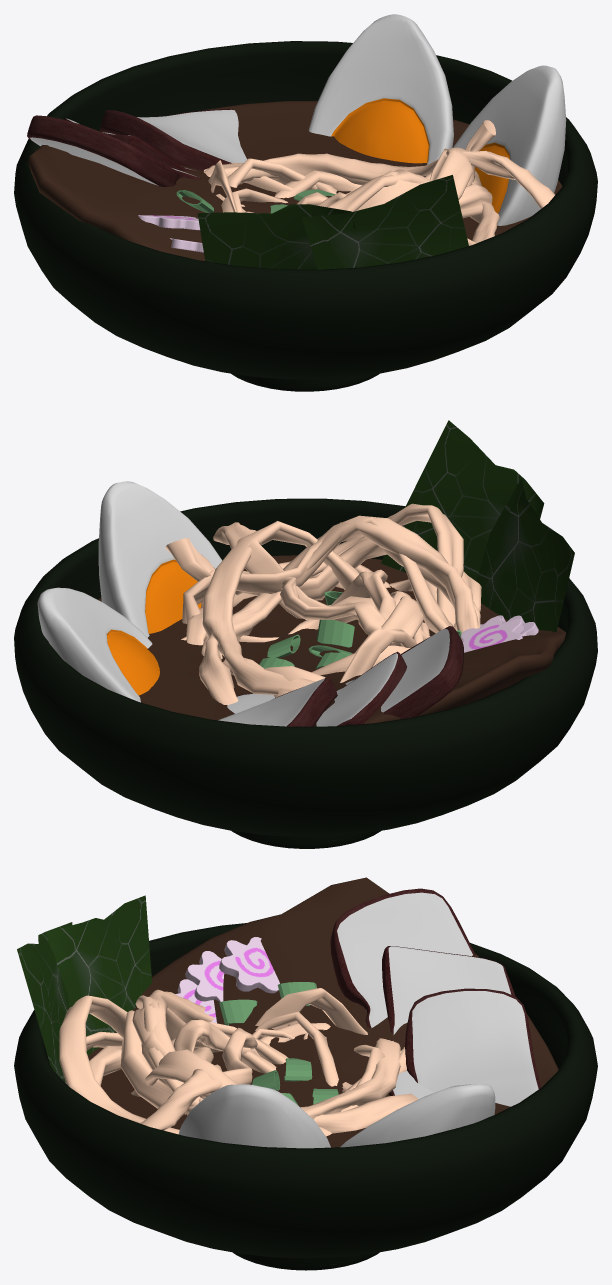
Rendered from Noodls.fbx.
The picture shows the model from 3 angles, top to bottom: view 1: azimuth 30°, elevation 25°; view 2: azimuth 150°, elevation 25°; view 3: azimuth 270°, elevation 25°; orthographic projection.
Visible parts, largest first — view 1: polySurface2157, polySurface2135, polySurface2158, polySurface2134, polySurface2156, polySurface2140, polySurface2155, polySurface2128, polySurface2132, polySurface2144, polySurface2149, polySurface2143 (+8 smaller); view 2: polySurface2157, polySurface2135, polySurface2156, polySurface2134, polySurface2140, polySurface2158, polySurface2143, polySurface2132, polySurface2150, polySurface2149, polySurface2128, polySurface2148 (+10 smaller); view 3: polySurface2157, polySurface2135, polySurface2155, polySurface2128, polySurface2140, polySurface2156, polySurface2148, polySurface2158, polySurface2127, polySurface2132, polySurface2134, polySurface2144 (+14 smaller).
Part boxes in pixels (x1=…): polySurface2157: x1=14, y1=41, x2=597, y2=391; polySurface2135: x1=28, y1=101, x2=562, y2=260; polySurface2158: x1=308, y1=14, x2=453, y2=164; polySurface2134: x1=301, y1=175, x2=468, y2=269; polySurface2156: x1=453, y1=65, x2=566, y2=225; polySurface2140: x1=197, y1=204, x2=355, y2=269; polySurface2155: x1=100, y1=109, x2=246, y2=171; polySurface2128: x1=27, y1=115, x2=201, y2=186; polySurface2132: x1=204, y1=147, x2=473, y2=199; polySurface2144: x1=216, y1=148, x2=554, y2=212; polySurface2149: x1=208, y1=120, x2=495, y2=212; polySurface2143: x1=326, y1=169, x2=481, y2=211; polySurface2157: x1=14, y1=498, x2=597, y2=848; polySurface2135: x1=98, y1=555, x2=566, y2=726; polySurface2156: x1=98, y1=481, x2=222, y2=637; polySurface2134: x1=381, y1=420, x2=544, y2=580; polySurface2140: x1=476, y1=478, x2=574, y2=631; polySurface2158: x1=37, y1=587, x2=159, y2=702; polySurface2143: x1=182, y1=515, x2=479, y2=641; polySurface2132: x1=202, y1=521, x2=371, y2=694; polySurface2150: x1=199, y1=516, x2=456, y2=704; polySurface2149: x1=165, y1=538, x2=416, y2=682; polySurface2128: x1=345, y1=626, x2=463, y2=719; polySurface2148: x1=227, y1=651, x2=406, y2=726; polySurface2157: x1=14, y1=923, x2=597, y2=1270; polySurface2135: x1=88, y1=877, x2=558, y2=1147; polySurface2155: x1=405, y1=988, x2=541, y2=1106; polySurface2128: x1=330, y1=888, x2=475, y2=1028; polySurface2140: x1=45, y1=895, x2=152, y2=1055; polySurface2156: x1=178, y1=1084, x2=330, y2=1148; polySurface2148: x1=382, y1=946, x2=515, y2=1099; polySurface2158: x1=340, y1=1084, x2=495, y2=1147; polySurface2127: x1=59, y1=995, x2=179, y2=1134; polySurface2132: x1=131, y1=1038, x2=400, y2=1119; polySurface2134: x1=17, y1=922, x2=72, y2=1082; polySurface2144: x1=140, y1=1019, x2=330, y2=1130.
Bounding box in the file's own units: 58.08 × 31.49 × 58.08.
